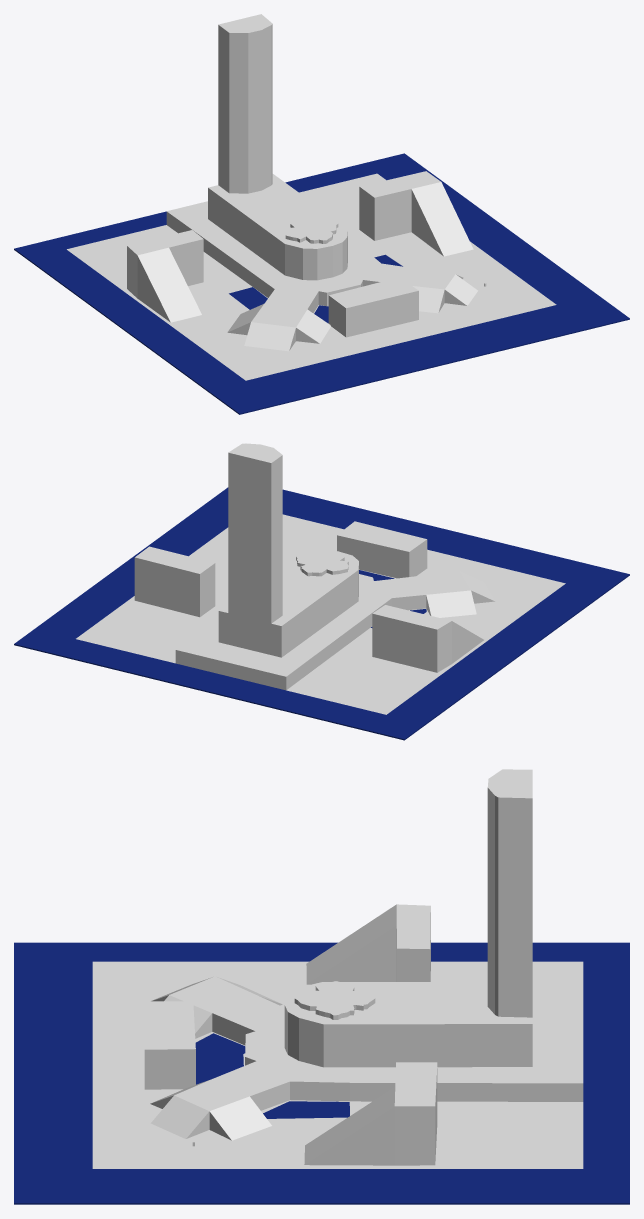
The model's file is Doom_map.fbx.
3 renders of one model, top to bottom at view 1: azimuth 30°, elevation 25°; view 2: azimuth 150°, elevation 25°; view 3: azimuth 270°, elevation 25°, orthographic. The views are drawn at different scales.
Visible parts, largest first — view 1: Plane.001, Plane.002, Cube.001; view 2: Plane.001, Plane.002, Cube.001; view 3: Plane.001, Plane.002, Cube.001.
Part boxes in pixels (x1,y1,x2,y2): Plane.001: (67, 171, 556, 380); Plane.002: (14, 153, 629, 414); Cube.001: (208, 14, 347, 280); Plane.001: (76, 514, 565, 714); Plane.002: (14, 487, 629, 740); Cube.001: (218, 443, 358, 657); Plane.001: (92, 904, 583, 1168); Plane.002: (14, 942, 629, 1204); Cube.001: (284, 769, 532, 1067).
Size of the model in its own units: 54063 by 27801 by 54063.
